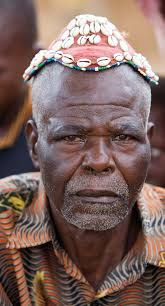person: (26, 14, 155, 235)
